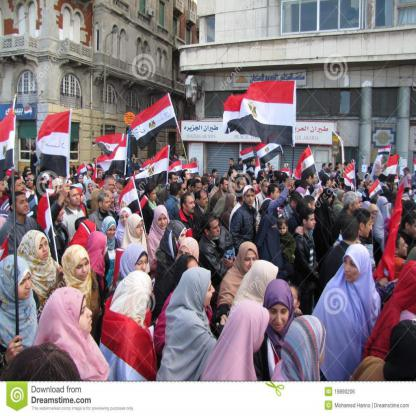face: (75, 299, 93, 334), (268, 302, 289, 332), (16, 272, 32, 299), (202, 280, 216, 307), (244, 250, 259, 275), (74, 258, 90, 281), (345, 257, 359, 282), (285, 287, 298, 312), (36, 239, 50, 262), (135, 256, 148, 279), (17, 195, 30, 215), (55, 202, 66, 222), (210, 220, 221, 239), (399, 238, 409, 256), (15, 180, 26, 196), (70, 189, 81, 205), (157, 214, 168, 230), (365, 217, 373, 239), (246, 189, 256, 206), (352, 197, 362, 214), (187, 196, 196, 214), (121, 212, 131, 228), (307, 214, 317, 230), (135, 220, 144, 237), (200, 192, 209, 207), (180, 229, 187, 248), (108, 226, 117, 240), (104, 198, 112, 213), (409, 222, 416, 239), (107, 180, 115, 193), (28, 175, 35, 188), (117, 183, 124, 196), (108, 195, 115, 208), (195, 183, 202, 195), (309, 201, 316, 213), (182, 184, 188, 197), (151, 190, 158, 201), (229, 183, 236, 194), (1, 181, 7, 193), (274, 188, 280, 200), (265, 183, 271, 195), (279, 225, 286, 235), (382, 202, 389, 212), (224, 181, 230, 192), (240, 179, 245, 192), (371, 210, 378, 219), (89, 184, 95, 194), (81, 191, 86, 203), (186, 171, 192, 181), (232, 198, 238, 208), (58, 185, 63, 196), (173, 175, 178, 186), (253, 180, 258, 191), (328, 194, 333, 205), (342, 194, 347, 205), (285, 179, 290, 189), (135, 170, 140, 179), (204, 184, 209, 193), (313, 175, 318, 184), (98, 171, 103, 179), (233, 170, 238, 178), (243, 178, 248, 186), (360, 182, 365, 190), (369, 183, 374, 191), (309, 177, 313, 186), (88, 170, 93, 177), (405, 169, 409, 177), (79, 177, 83, 184), (114, 173, 118, 180), (273, 175, 277, 182), (328, 179, 331, 187), (71, 172, 74, 179), (71, 163, 74, 170), (333, 180, 336, 187), (340, 183, 343, 190), (408, 179, 412, 184), (192, 159, 195, 165), (205, 176, 208, 182), (215, 172, 218, 178), (343, 163, 346, 169), (94, 159, 97, 164), (229, 160, 232, 165), (240, 160, 243, 165), (262, 162, 265, 167), (339, 164, 342, 169), (338, 169, 341, 174), (133, 155, 136, 159), (253, 159, 256, 163), (266, 170, 269, 174), (358, 176, 361, 180), (253, 161, 255, 166), (273, 167, 275, 172), (325, 165, 327, 170), (331, 164, 333, 169), (268, 165, 271, 168), (175, 155, 177, 158)
